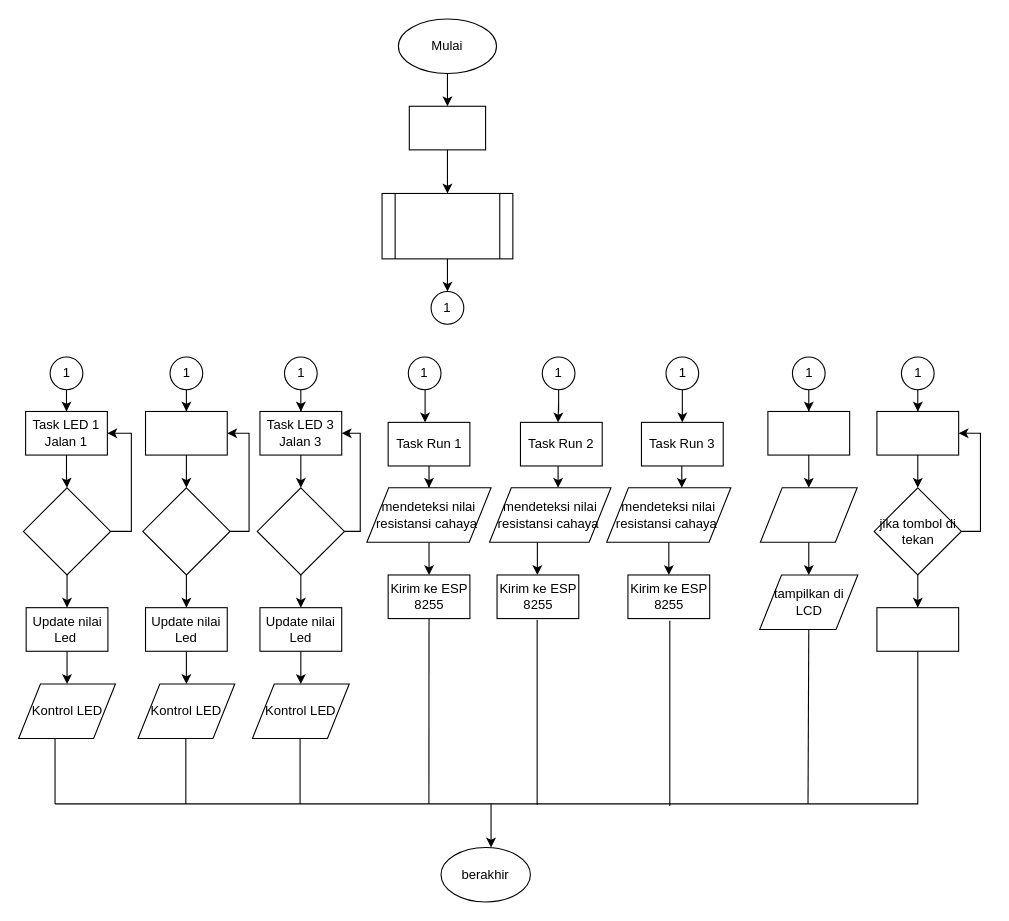
Some shapes in this 1009 by 921 pixel diagram are drawn without their labels. The centre of each missing label's shape, as x and y in pixels:
if LED 1 nyala: (x=66, y=531)
if LED 2 nyala: (x=186, y=531)
if LED 3 nyala: (x=300, y=531)
membaca data dari LED: (x=808, y=514)
Membuat task dan inisialisasi: (x=447, y=225)
OFF ALL LED: (x=917, y=629)
SetUp: (x=447, y=127)
Task Button: (x=917, y=432)
Task LCD: (x=808, y=432)
Task LED 2 Jalan 2: (x=185, y=432)
